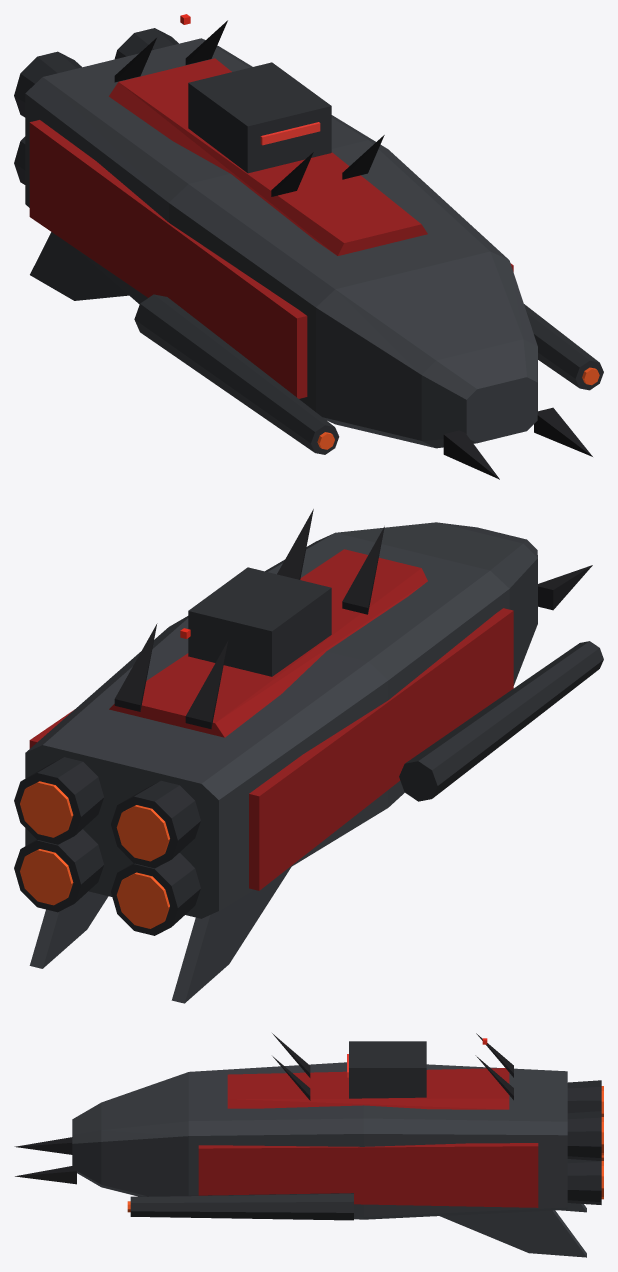
File: harkonnen.obj
3 renders of one model, top to bottom at view 1: azimuth 30°, elevation 25°; view 2: azimuth 150°, elevation 25°; view 3: azimuth 270°, elevation 25°, orthographic. The views are drawn at different scales.
Visible parts, largest first — view 1: корпус, броня_борта, броня_палубы, орудие, рубка, плавник, двигатель, шип, таран, смотровая_щель; view 2: корпус, броня_борта, двигатель, броня_палубы, рубка, орудие, сопло, плавник, шип, таран; view 3: корпус, броня_борта, броня_палубы, орудие, рубка, двигатель, плавник, таран, шип, сопло.
Boxes of the visible parts, bbox=[...] form: корпус: bbox=[25, 38, 537, 448]; броня_борта: bbox=[29, 120, 513, 398]; броня_палубы: bbox=[109, 58, 427, 255]; орудие: bbox=[134, 294, 603, 454]; рубка: bbox=[188, 62, 331, 173]; плавник: bbox=[30, 232, 128, 300]; двигатель: bbox=[14, 28, 178, 184]; шип: bbox=[114, 20, 384, 196]; таран: bbox=[443, 407, 592, 479]; смотровая_щель: bbox=[260, 122, 320, 145]; корпус: bbox=[25, 522, 537, 918]; броня_борта: bbox=[29, 608, 513, 890]; двигатель: bbox=[14, 757, 200, 935]; броня_палубы: bbox=[109, 549, 427, 737]; рубка: bbox=[188, 567, 331, 676]; орудие: bbox=[399, 641, 603, 801]; сопло: bbox=[20, 781, 169, 928]; плавник: bbox=[29, 867, 291, 1003]; шип: bbox=[114, 509, 384, 729]; таран: bbox=[538, 565, 592, 610]; корпус: bbox=[72, 1062, 567, 1219]; броня_борта: bbox=[198, 1143, 538, 1207]; броня_палубы: bbox=[227, 1068, 509, 1109]; орудие: bbox=[130, 1193, 353, 1220]; рубка: bbox=[349, 1041, 426, 1098]; двигатель: bbox=[567, 1080, 601, 1204]; плавник: bbox=[440, 1203, 586, 1257]; таран: bbox=[14, 1137, 76, 1184]; шип: bbox=[272, 1033, 513, 1100]; сопло: bbox=[601, 1086, 603, 1199].
Size of the model in its own units: 4.7 by 4.4 by 12.15.
